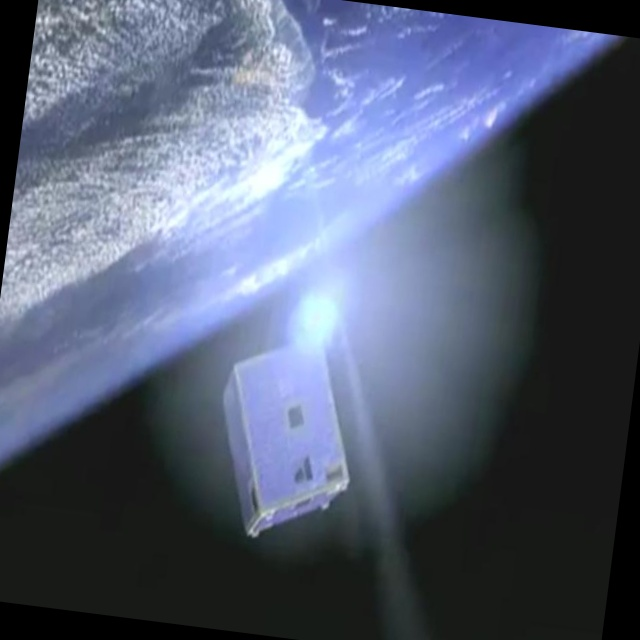medium_debris: (197, 275, 379, 559)
